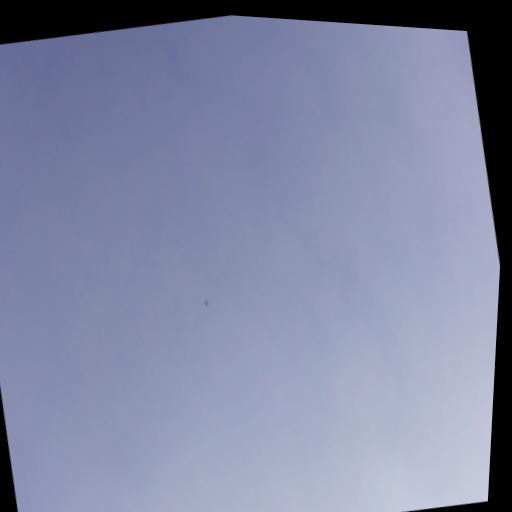drones: (202, 296, 211, 311)
